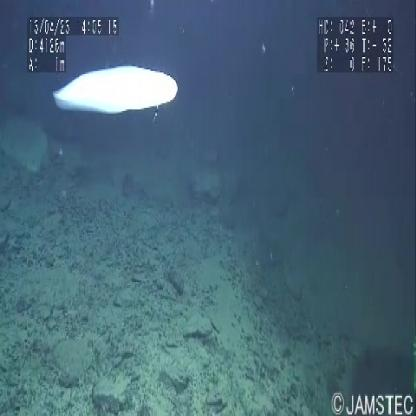Bio: (48, 62, 183, 120)
